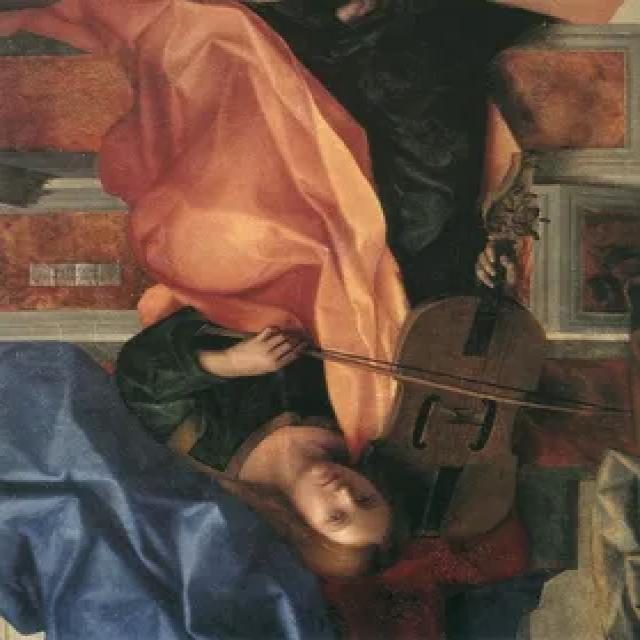angel: (92, 0, 588, 591)
